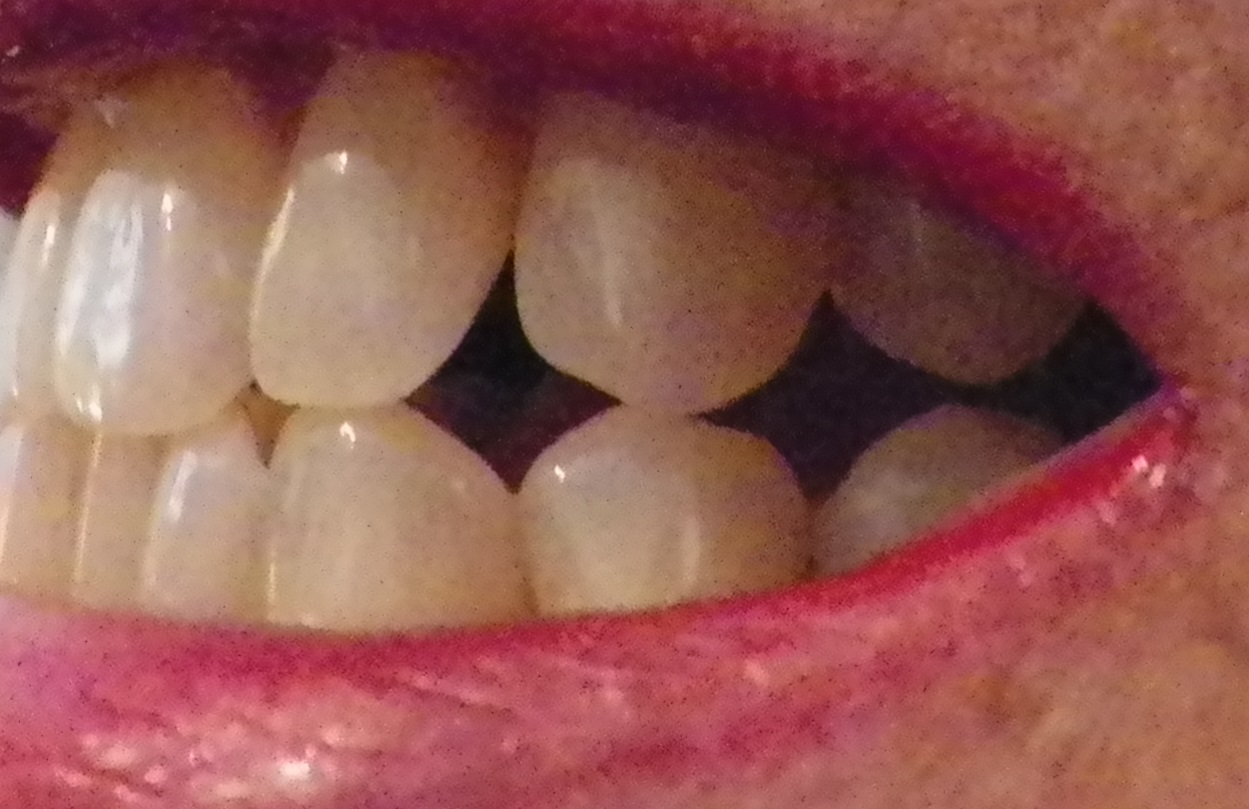boca: (6, 83, 1080, 635)
